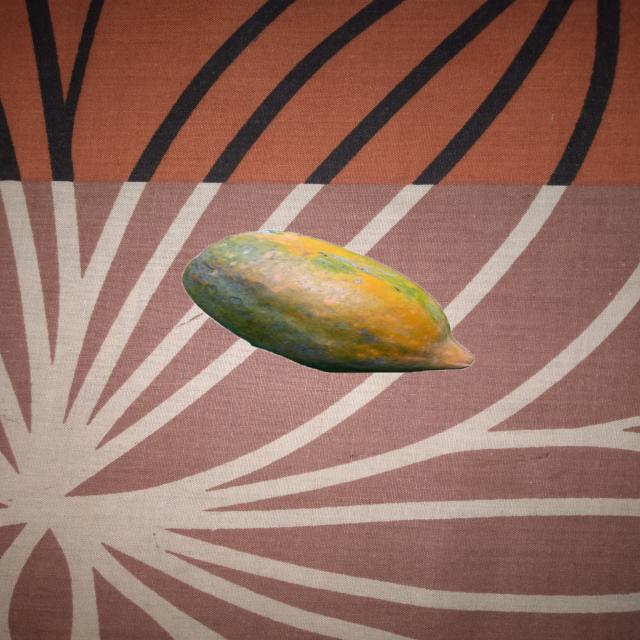Pepaya rippen: (173, 224, 491, 390)
